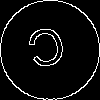C: (25, 25, 70, 79)
